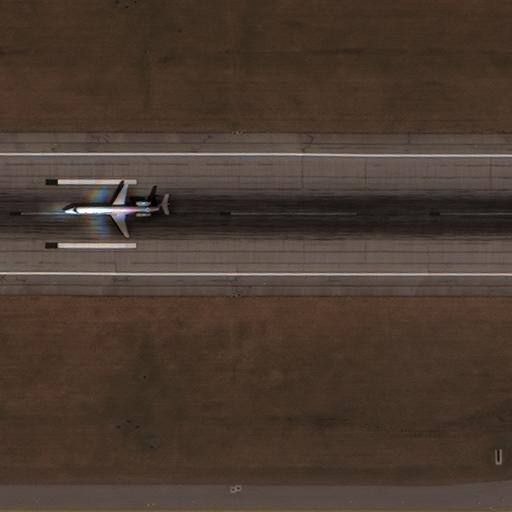Medium Civil Transport: (63, 183, 170, 237)
